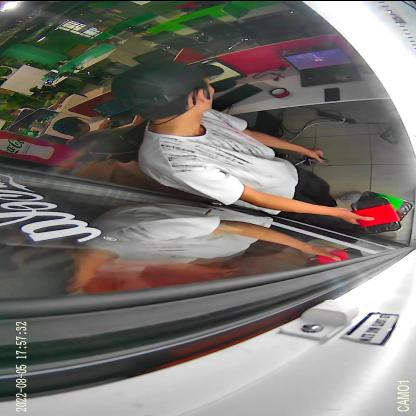green: (356, 190, 414, 221)
red: (350, 196, 402, 233)
